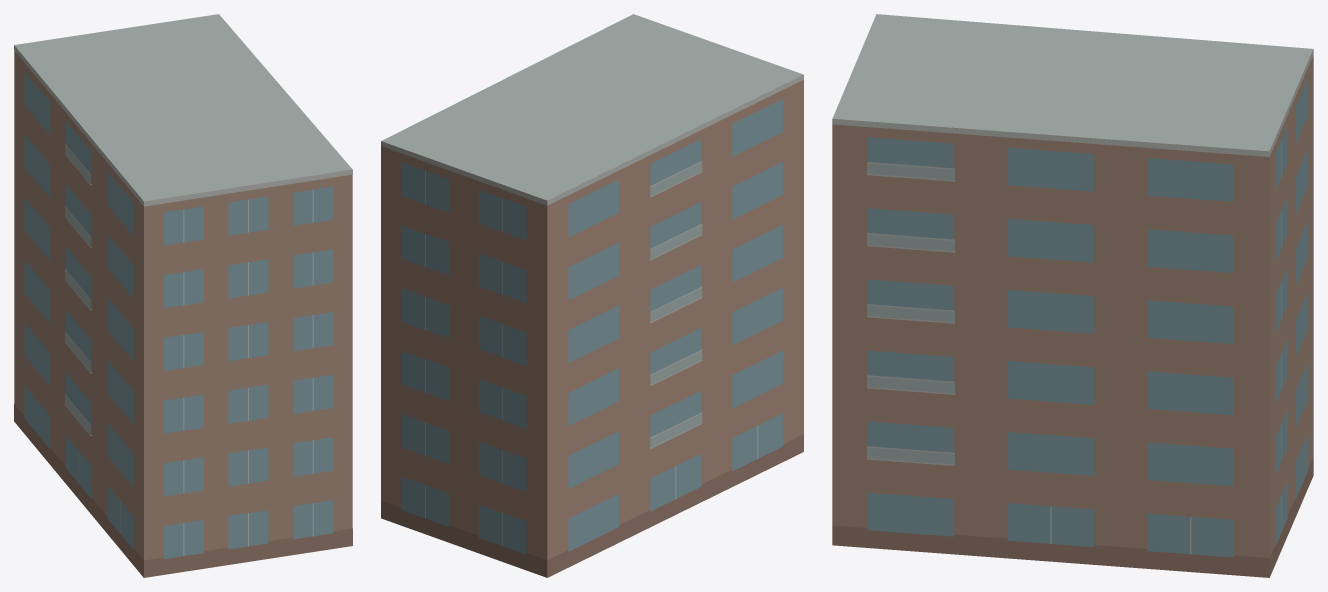
File: survey-upis-32702639.glb
The picture shows the model from 3 angles, left to right: view 1: azimuth 30°, elevation 25°; view 2: azimuth 150°, elevation 25°; view 3: azimuth 270°, elevation 25°; orthographic projection. The views are drawn at different scales.
Visible parts, largest first — view 1: survey-upis-32702639.tmp; view 2: survey-upis-32702639.tmp; view 3: survey-upis-32702639.tmp.
Part boxes in pixels (x1,y1,x2,y2): survey-upis-32702639.tmp: [14, 14, 352, 577]; survey-upis-32702639.tmp: [381, 14, 803, 577]; survey-upis-32702639.tmp: [832, 14, 1313, 577].
Size of the model in its own units: 12.65 by 18.3 by 18.72.
